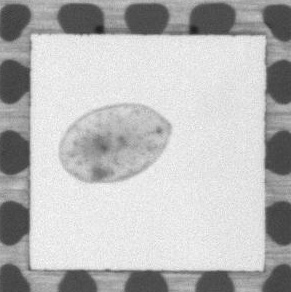DIE_INK: (50, 96, 179, 191)
